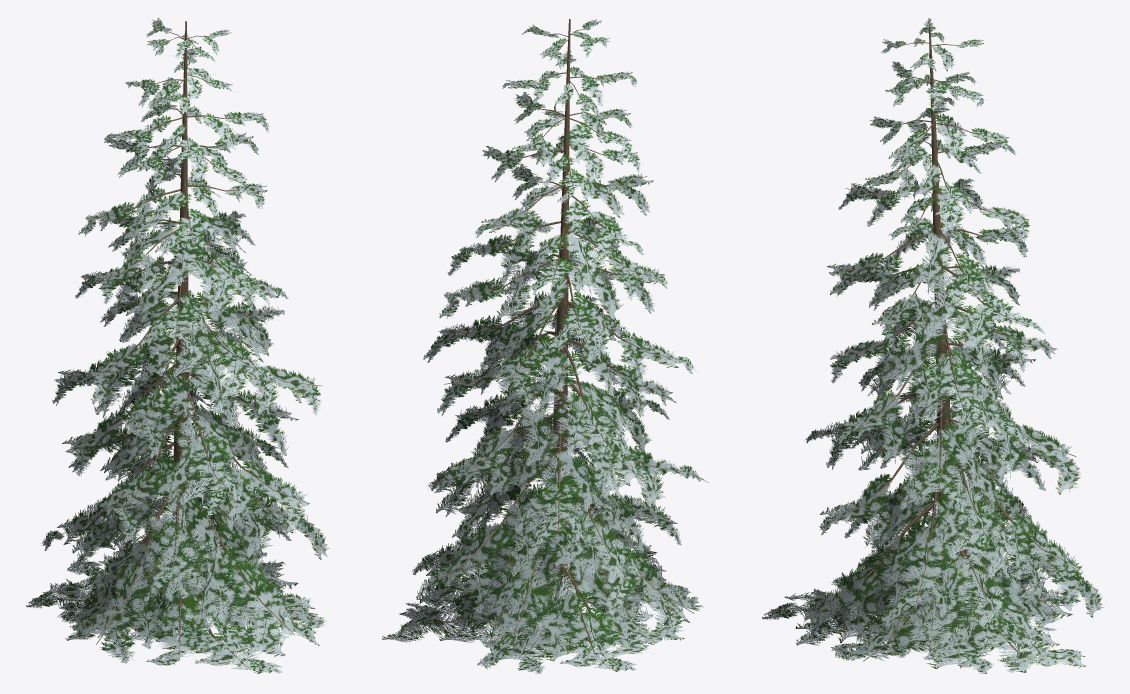
Rendered from tree_snowSpruce.glb.
3 renders of one model, left to right at view 1: azimuth 30°, elevation 25°; view 2: azimuth 150°, elevation 25°; view 3: azimuth 270°, elevation 25°, orthographic.
Visible parts, largest first — view 1: plant; view 2: plant; view 3: plant.
Boxes of the visible parts, bbox=[...] form: plant: bbox=[26, 18, 329, 673]; plant: bbox=[382, 19, 708, 673]; plant: bbox=[762, 18, 1104, 673].
Size of the model in its own units: 6.06 by 13 by 7.33.
Materials: 2 (2 with a texture image).
